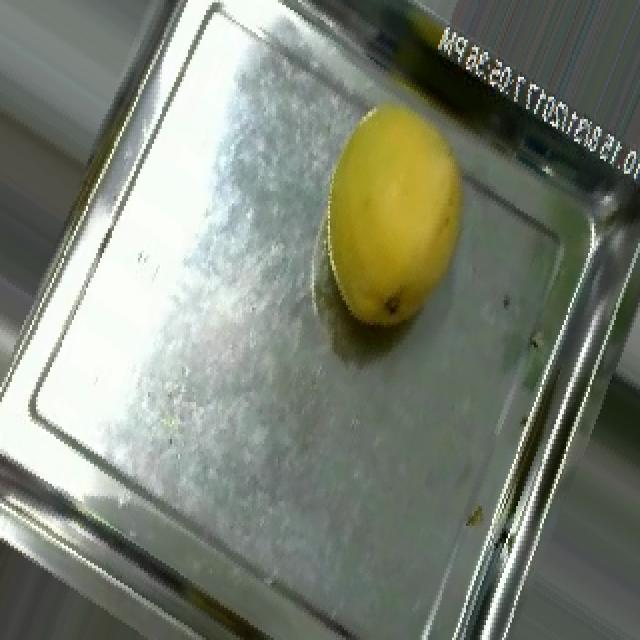fruit: (262, 62, 520, 360)
